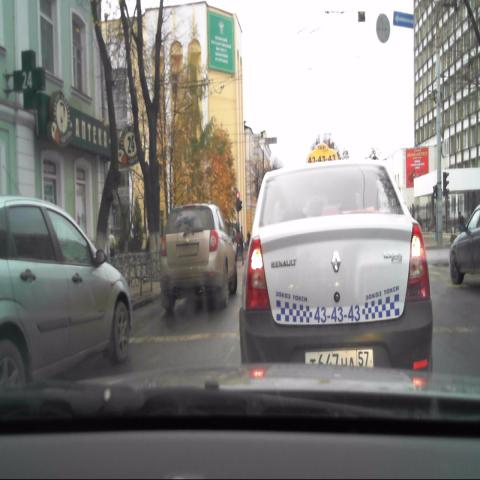5_7_2: (393, 11, 415, 29)
